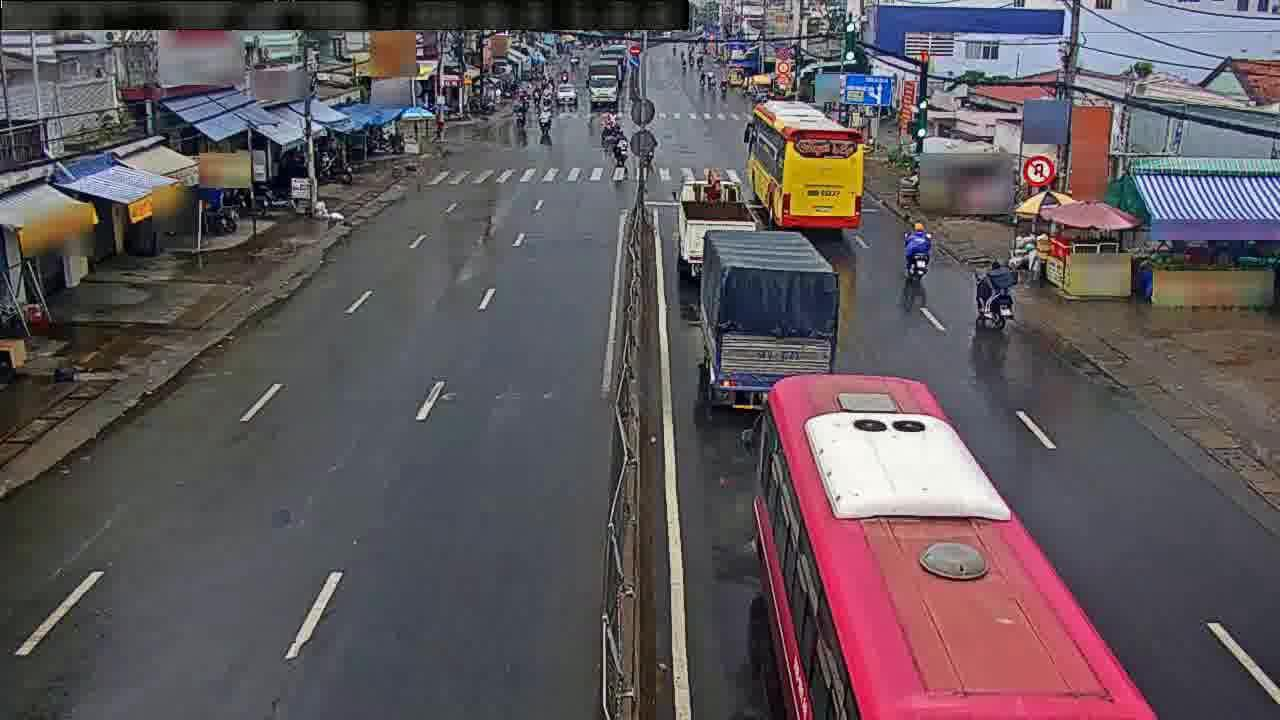14: (746, 372, 1153, 715), (744, 99, 859, 233)
8: (690, 226, 843, 407), (673, 170, 758, 263)
motorbike: (971, 258, 1018, 330), (902, 215, 933, 283), (539, 103, 557, 136)
